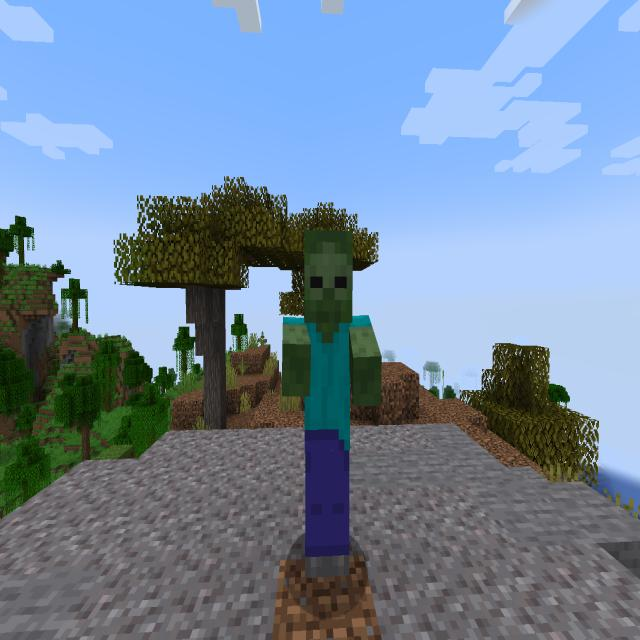Zombie: (278, 212, 386, 598)
